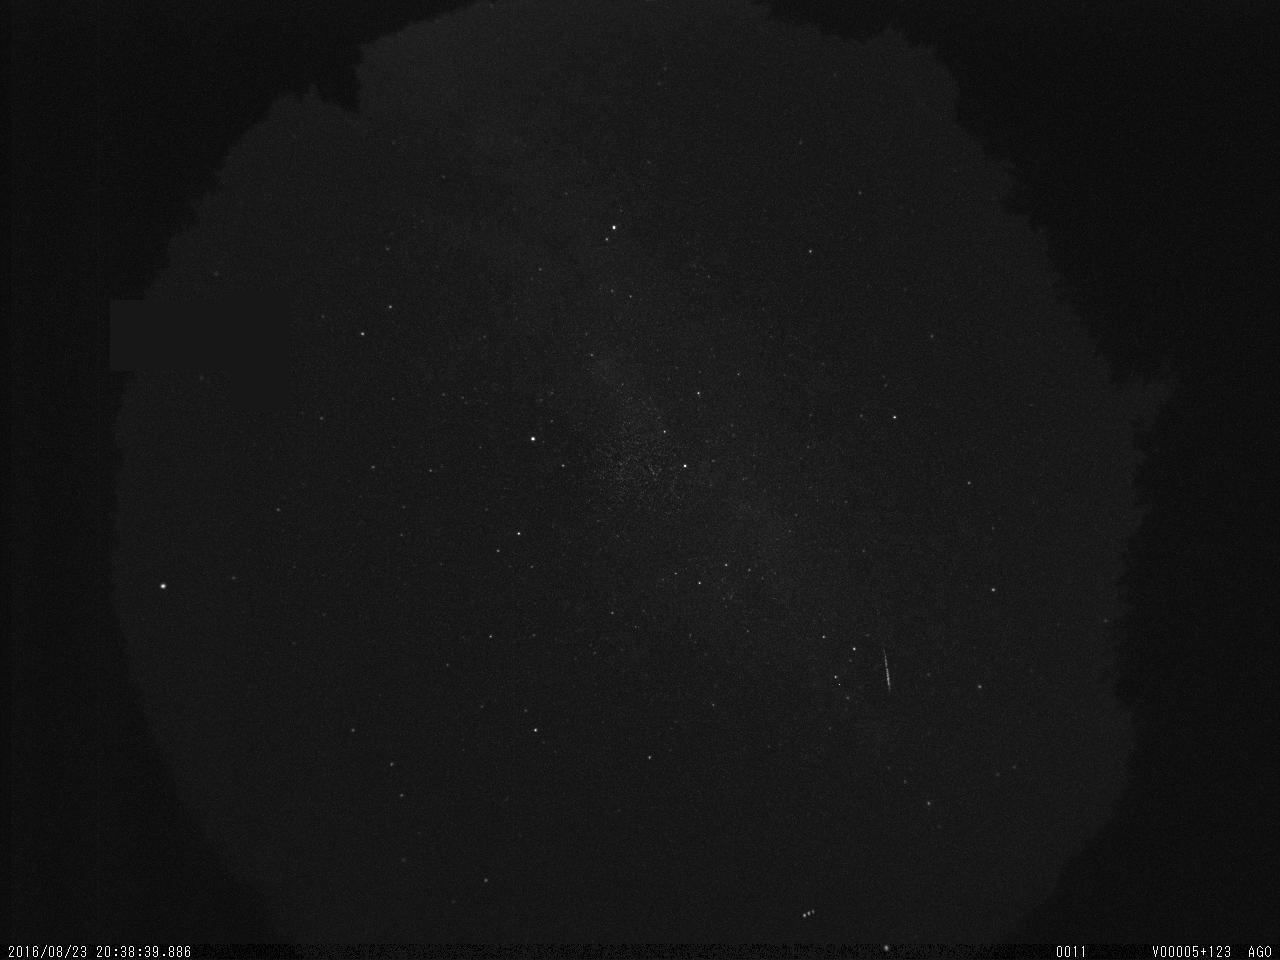meteor: (879, 638, 894, 701)
